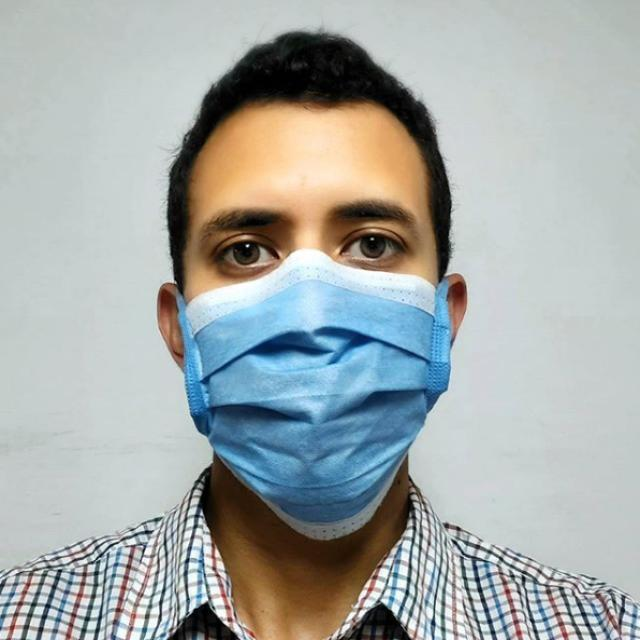1_mascarilla: (178, 264, 450, 537)
